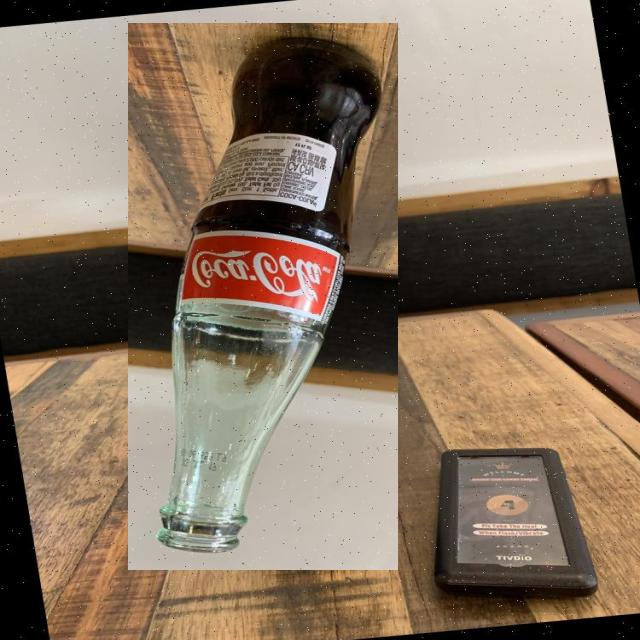coca-cola: (128, 23, 398, 570)
